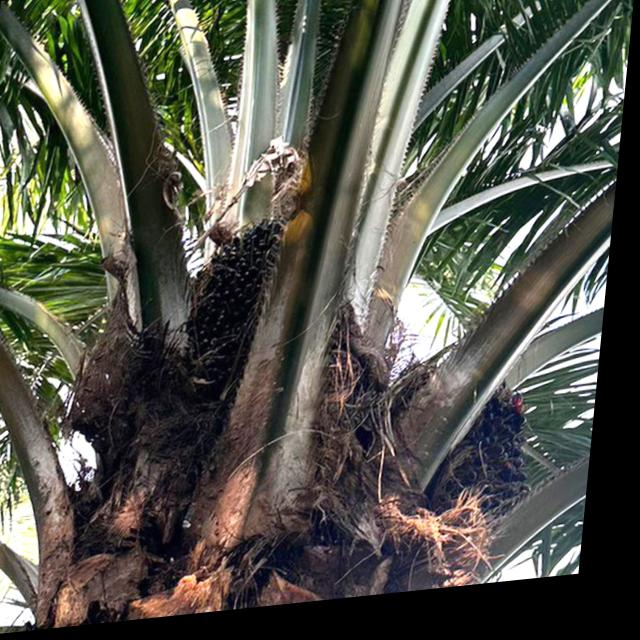ripe: (183, 210, 301, 379)
